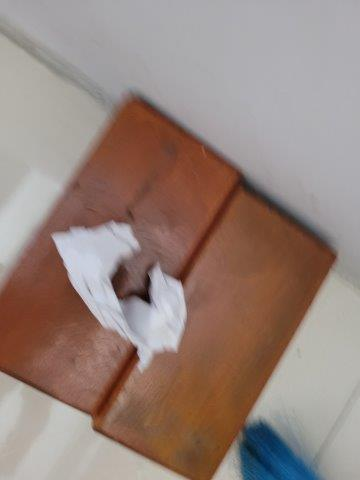kertas: (48, 223, 186, 370)
